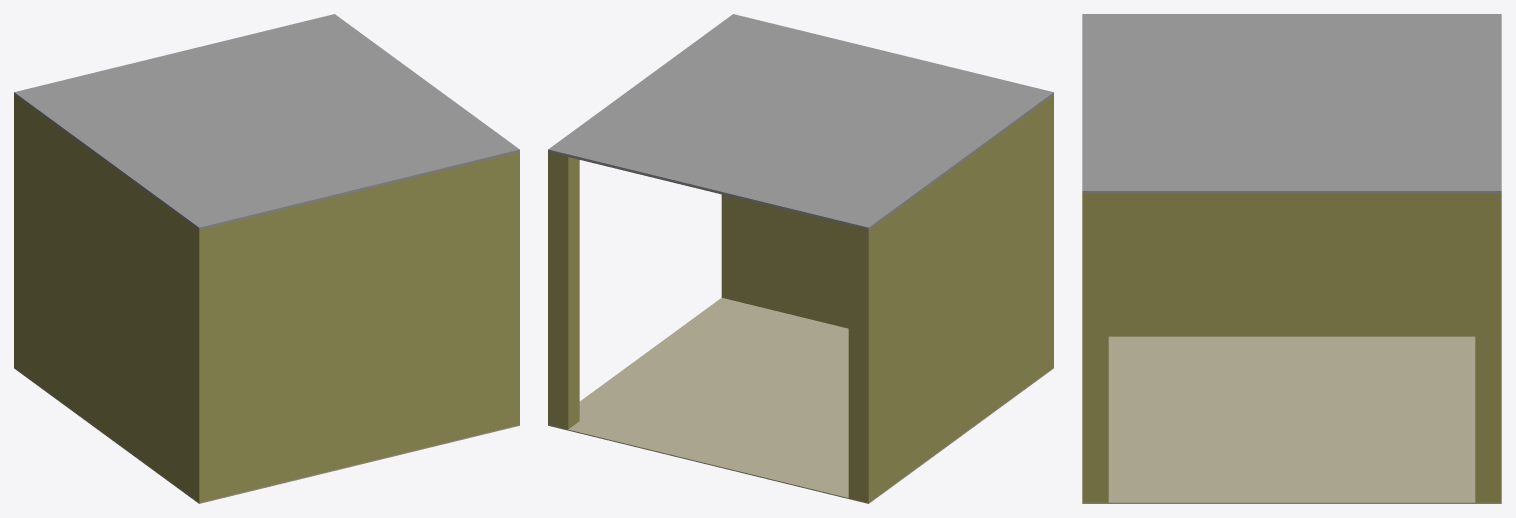
File: tile3.gltf
The picture shows the model from 3 angles, left to right: view 1: azimuth 30°, elevation 25°; view 2: azimuth 150°, elevation 25°; view 3: azimuth 270°, elevation 25°; orthographic projection. The views are drawn at different scales.
Parts seen in each view (by area): view 1: cube (×4); view 2: cube (×5); view 3: cube (×5).
Boxes of the visible parts, x1,y1,x2,y2 form: cube (×4): [14, 14, 519, 503]; cube (×5): [548, 14, 1053, 503]; cube (×5): [1082, 14, 1501, 503].
Bounding box in the file's own units: 1 × 0.8234 × 1.
Materials: 1 (1 with a texture image).
